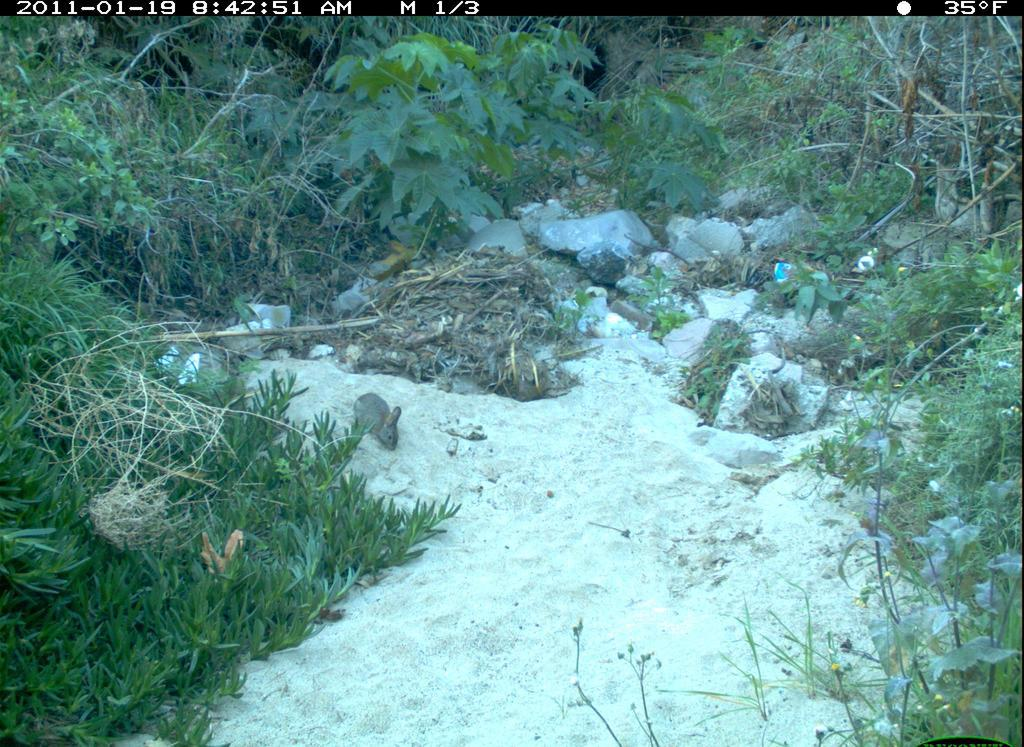rabbit: (345, 387, 411, 457)
